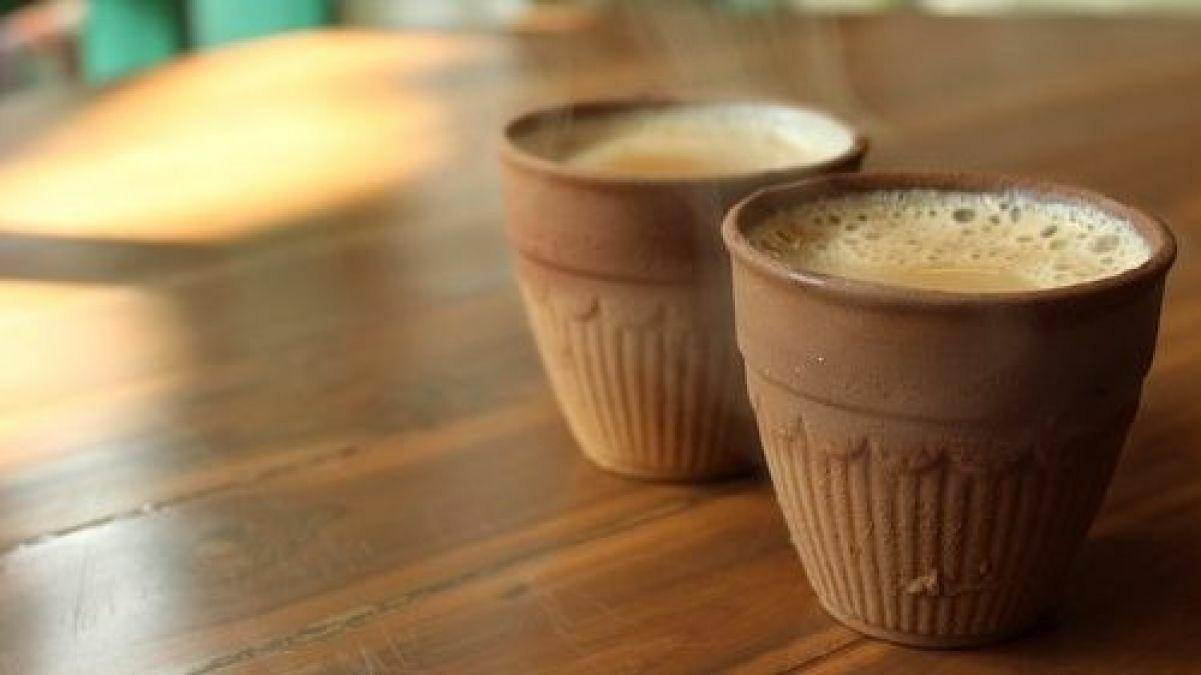Chai: (749, 199, 1146, 294), (525, 103, 817, 174)
